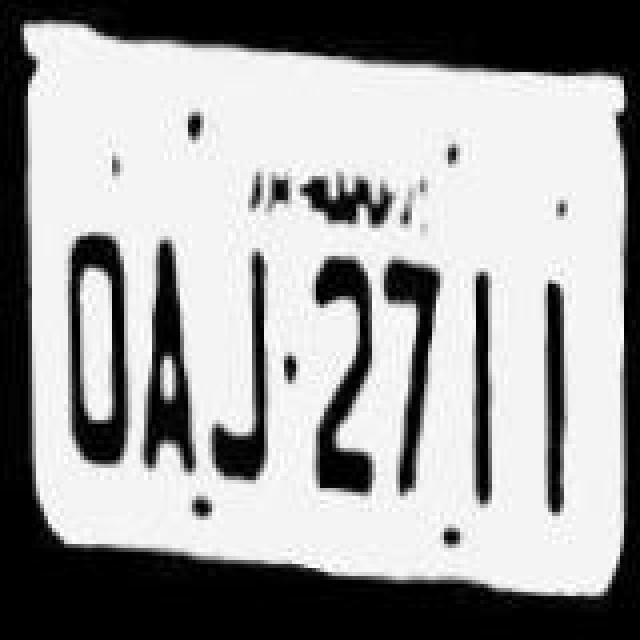1: (522, 244, 578, 520), (452, 248, 508, 512)
2: (298, 228, 382, 508)
7: (380, 220, 452, 488)
A: (134, 234, 202, 486)
J: (202, 226, 286, 494)
O: (46, 228, 130, 496)
